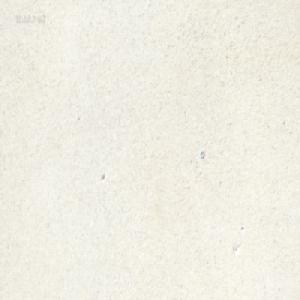Washer: (199, 150, 204, 159)
